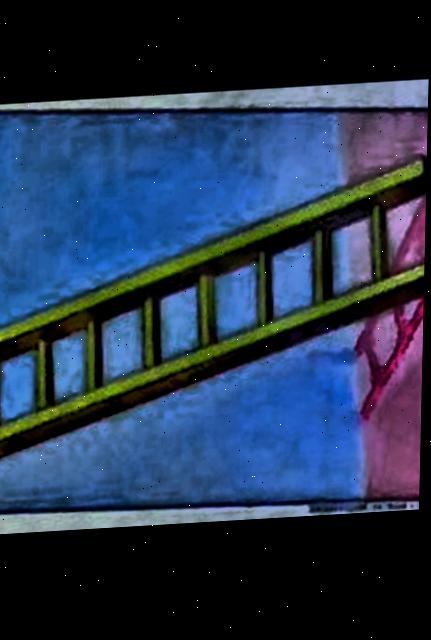La Escalera: (0, 112, 429, 517)
